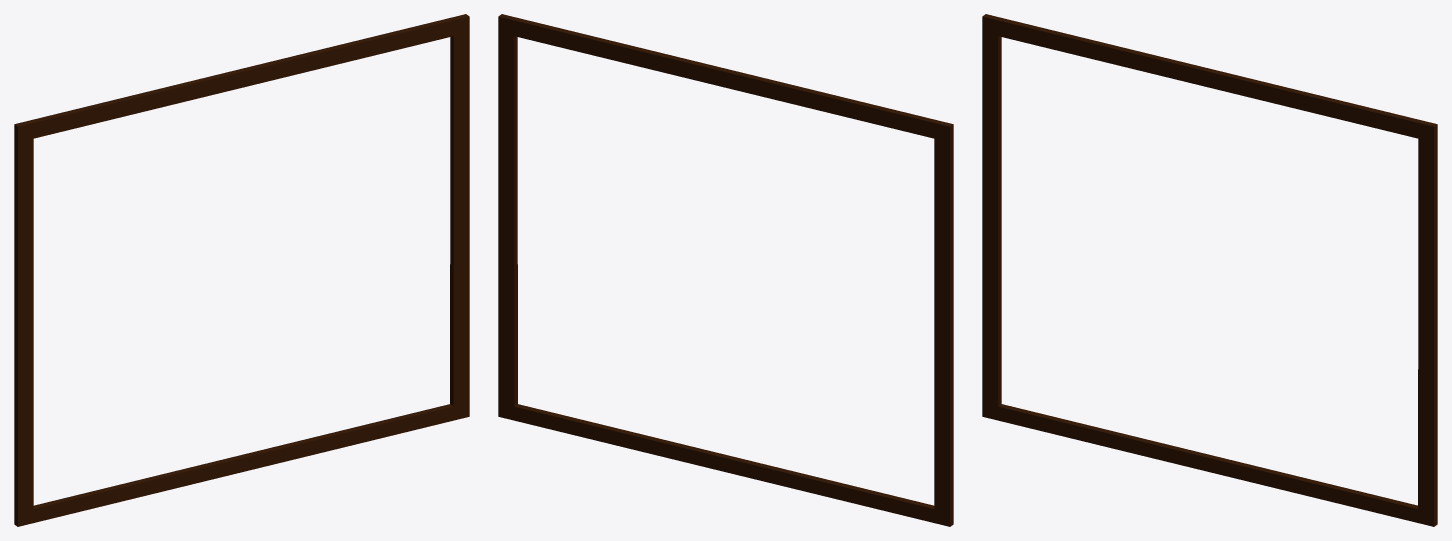
File: marco.fbx
3 renders of one model, left to right at view 1: azimuth 30°, elevation 25°; view 2: azimuth 150°, elevation 25°; view 3: azimuth 330°, elevation 25°, orthographic.
Visible parts, largest first — view 1: Cube.007; view 2: Cube.007; view 3: Cube.007.
Part boxes in pixels (x1=…): Cube.007: x1=14, y1=14, x2=469, y2=526; Cube.007: x1=498, y1=14, x2=953, y2=526; Cube.007: x1=982, y1=14, x2=1437, y2=526.
Bounding box in the file's own units: 5604 × 4743 × 75.51.
